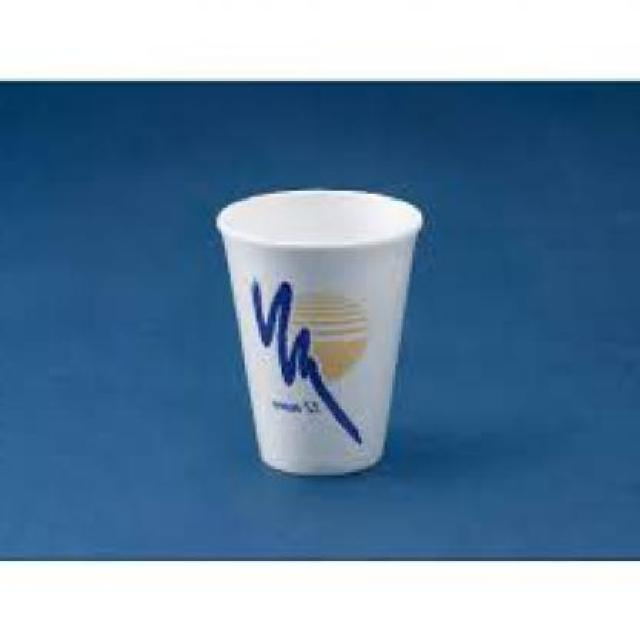PAPER: (219, 186, 427, 474)
